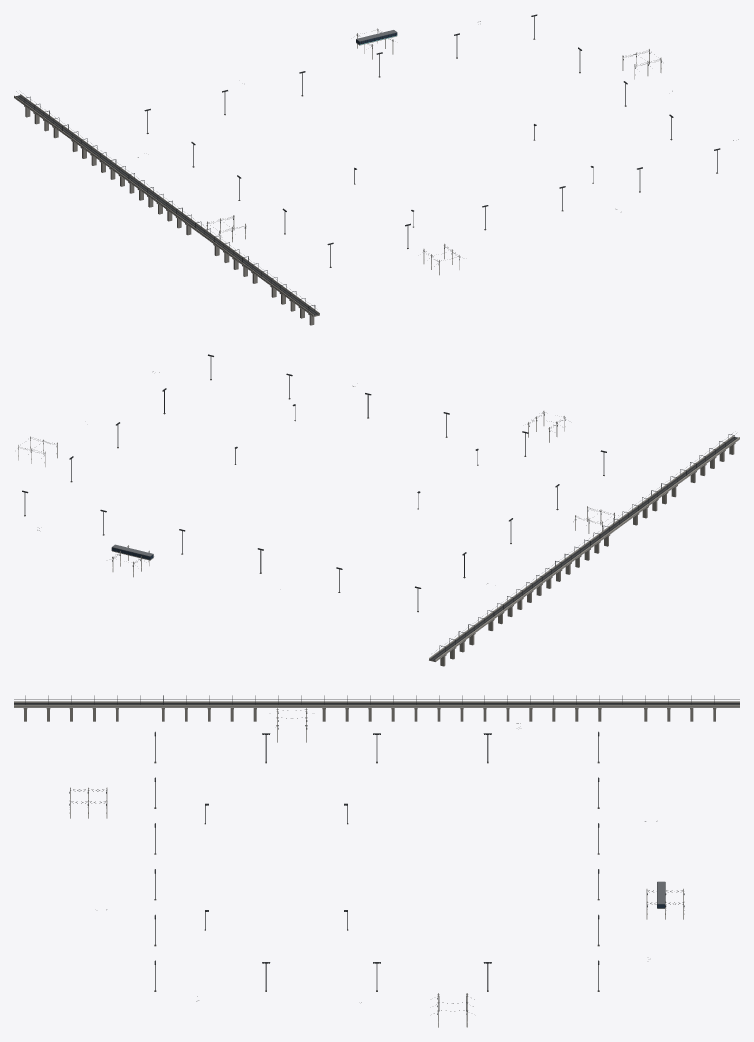
Rendered from HEX_City_09_STRUCTURES.fbx.
The picture shows the model from 3 angles, top to bottom: view 1: azimuth 30°, elevation 25°; view 2: azimuth 150°, elevation 25°; view 3: azimuth 270°, elevation 25°; orthographic projection. The views are drawn at different scales.
Parts seen in each view (by area): view 1: RailViaduct_West; view 2: RailViaduct_West; view 3: RailViaduct_West.
Boxes of the visible parts, <box> form: RailViaduct_West: <box>14,91,319,325</box>; RailViaduct_West: <box>429,433,739,666</box>; RailViaduct_West: <box>14,695,739,721</box>.
Bounding box in the file's own units: 1276 × 57.2 × 1264.
